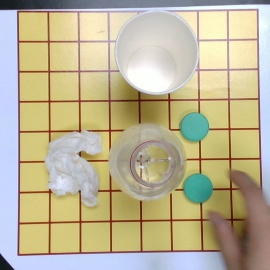bottle: (110, 123, 188, 202)
cup: (114, 12, 199, 94)
green: (179, 111, 209, 140), (183, 174, 213, 202)
